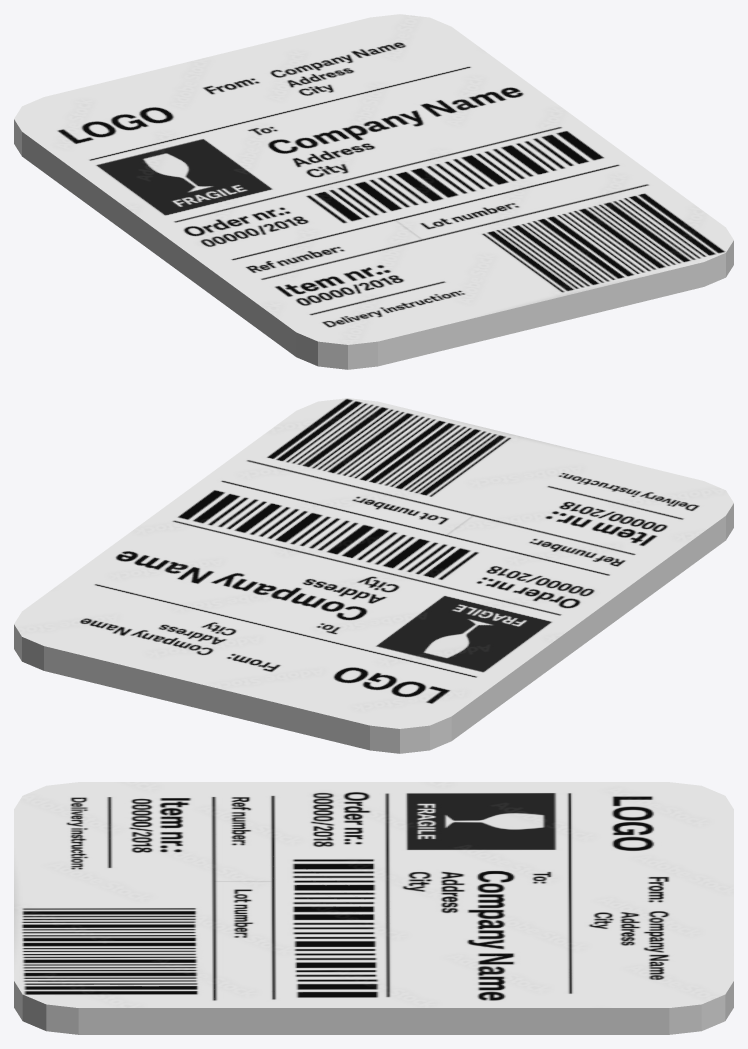
The model's file is ShippingLabel.fbx.
The picture shows the model from 3 angles, top to bottom: view 1: azimuth 30°, elevation 25°; view 2: azimuth 150°, elevation 25°; view 3: azimuth 270°, elevation 25°; orthographic projection. The views are drawn at different scales.
Visible parts, largest first — view 1: Cube; view 2: Cube; view 3: Cube.
Boxes of the visible parts, x1,y1,x2,y2 form: Cube: (14,14,733,369); Cube: (14,398,733,753); Cube: (14,782,733,1034).
Bounding box in the file's own units: 200 × 149 × 8.21.
Materials: 2 (1 with a texture image).
